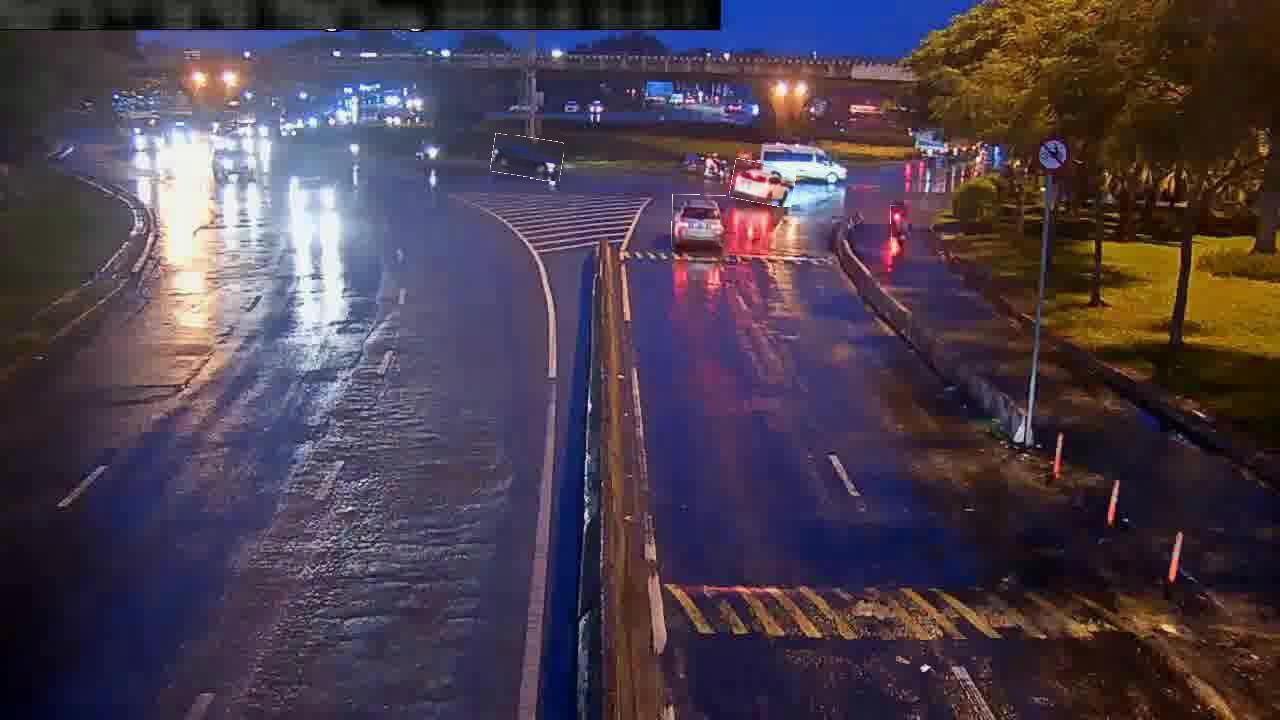container: (492, 136, 564, 180), (730, 161, 796, 206), (672, 195, 727, 248)
motorbike: (891, 205, 914, 243)
